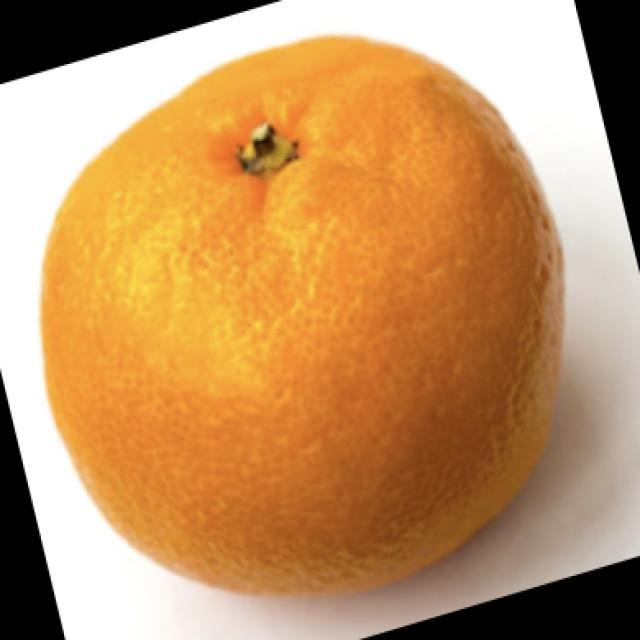matang: (42, 38, 562, 591)
